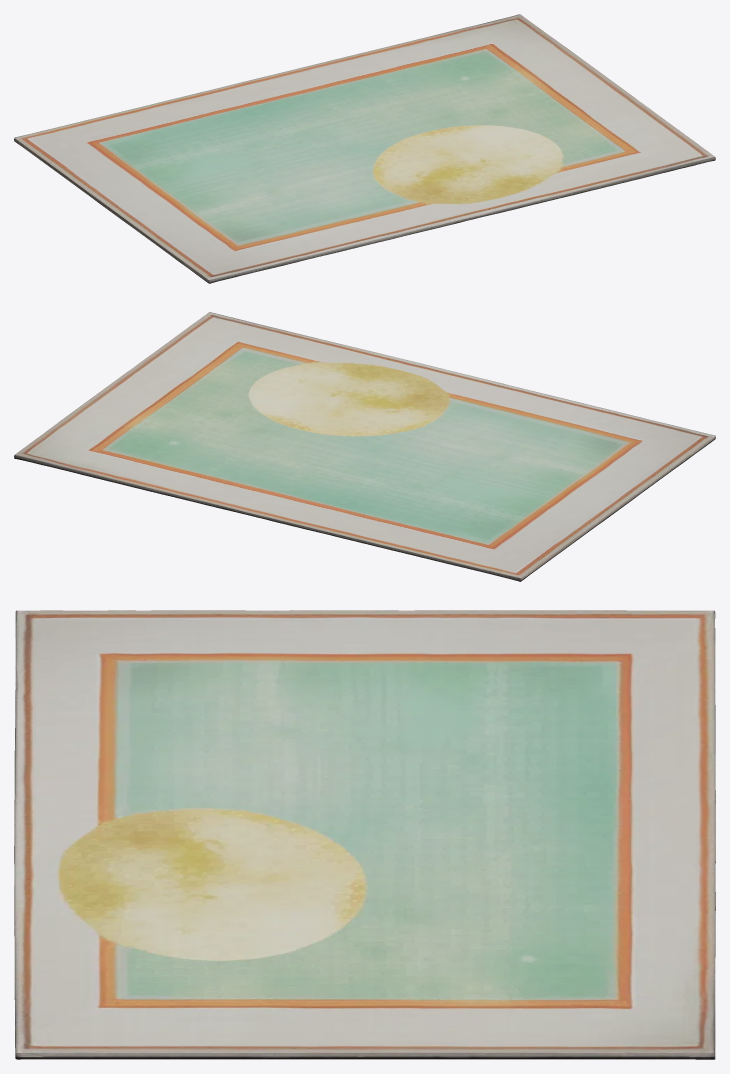
Rendered from 687dea5b-bad2-4596-90cf-0fa5037e38cd.glb.
The picture shows the model from 3 angles, top to bottom: view 1: azimuth 30°, elevation 25°; view 2: azimuth 150°, elevation 25°; view 3: azimuth 270°, elevation 25°; orthographic projection. The views are drawn at different scales.
Visible parts, largest first — view 1: world; view 2: world; view 3: world.
Part boxes in pixels (bbox=[...]): world: bbox=[14, 14, 715, 283]; world: bbox=[14, 312, 715, 581]; world: bbox=[14, 610, 715, 1059].
Bounding box in the file's own units: 1 × 0.00734 × 0.6699.
Materials: 1 (1 with a texture image).
